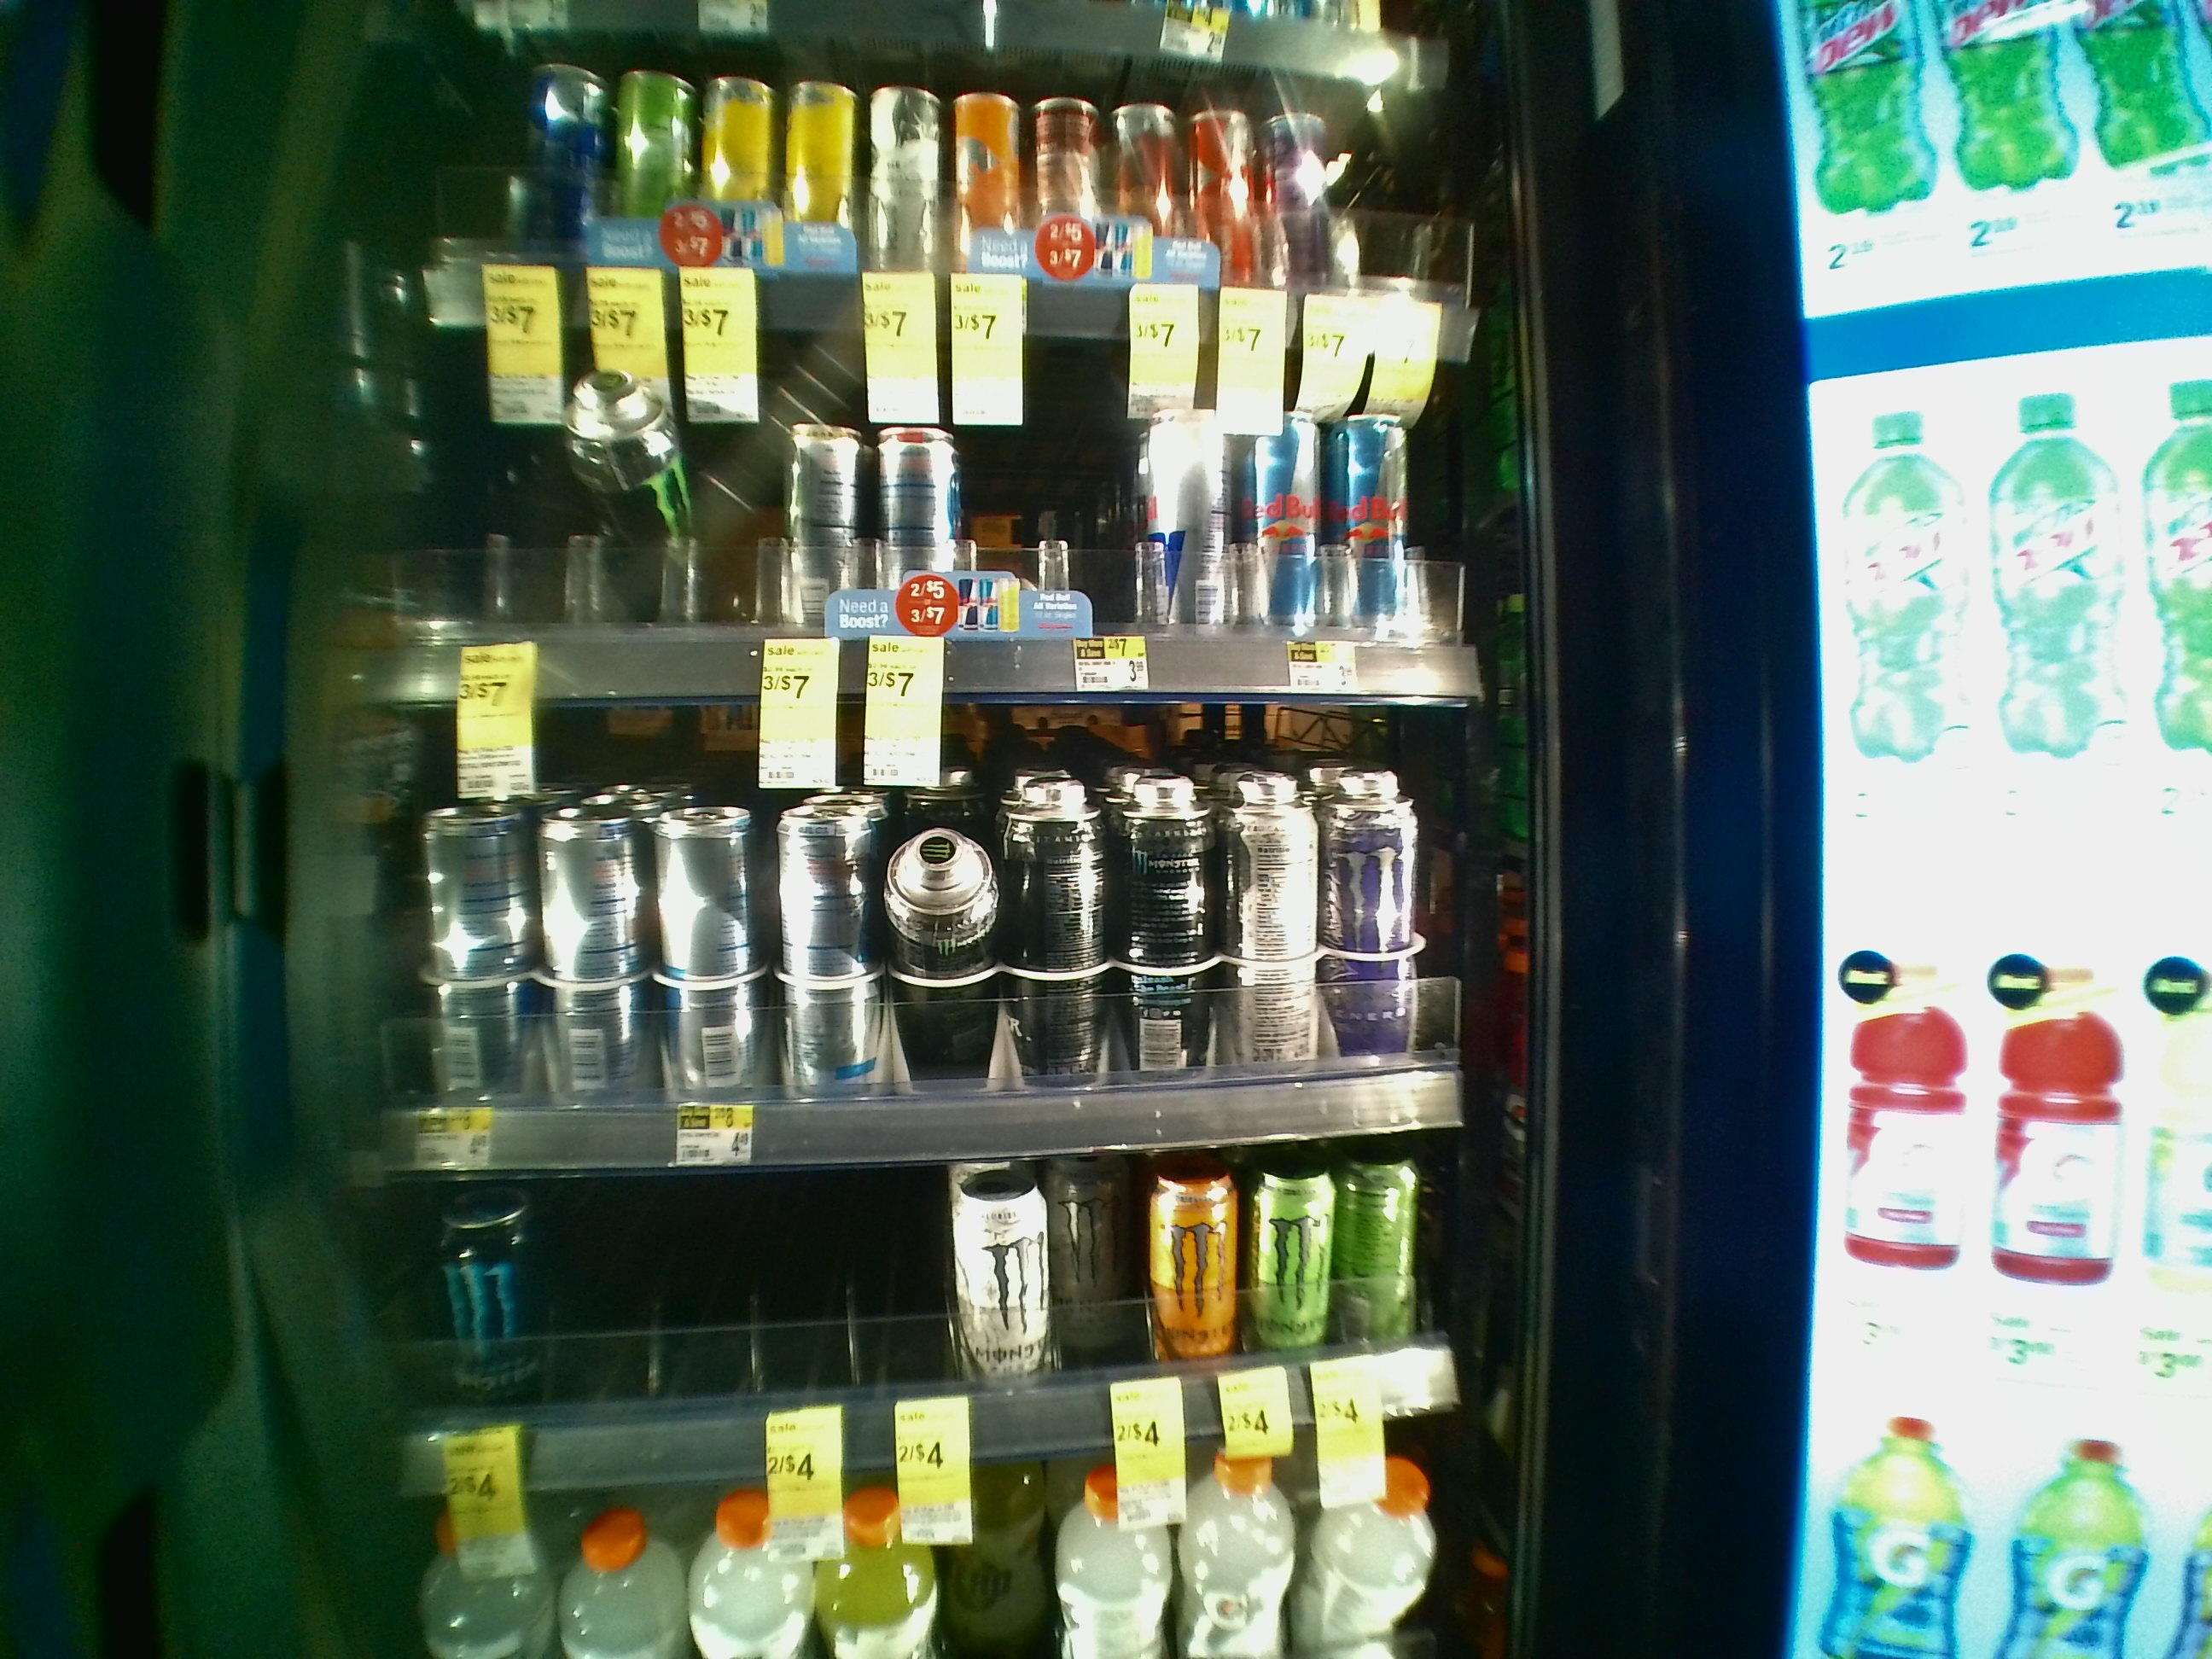shelf: (373, 697, 1533, 1131), (392, 331, 1533, 708)
